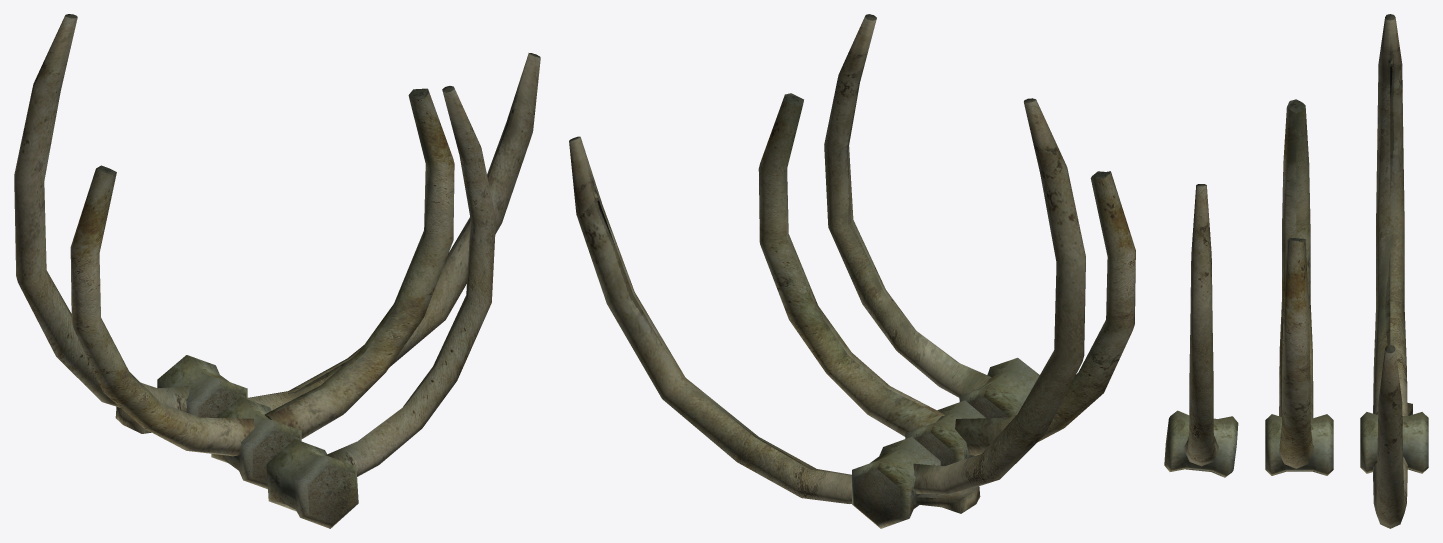
Rendered from bone_whale_piece_rib02.fbx.
3 renders of one model, left to right at view 1: azimuth 30°, elevation 25°; view 2: azimuth 150°, elevation 25°; view 3: azimuth 270°, elevation 25°, orthographic. The views are drawn at different scales.
Visible parts, largest first — view 1: bone_whale_piece_rib02; view 2: bone_whale_piece_rib02; view 3: bone_whale_piece_rib02.
Part boxes in pixels (x1,y1,x2,y2): bone_whale_piece_rib02: (14, 14, 540, 528); bone_whale_piece_rib02: (569, 14, 1135, 528); bone_whale_piece_rib02: (1164, 14, 1428, 528).
Size of the model in its own units: 17.55 by 14.73 by 8.73.
